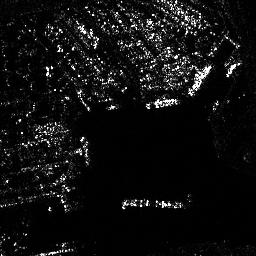ship: (122, 195, 183, 211), (186, 64, 213, 96), (145, 96, 179, 110)
